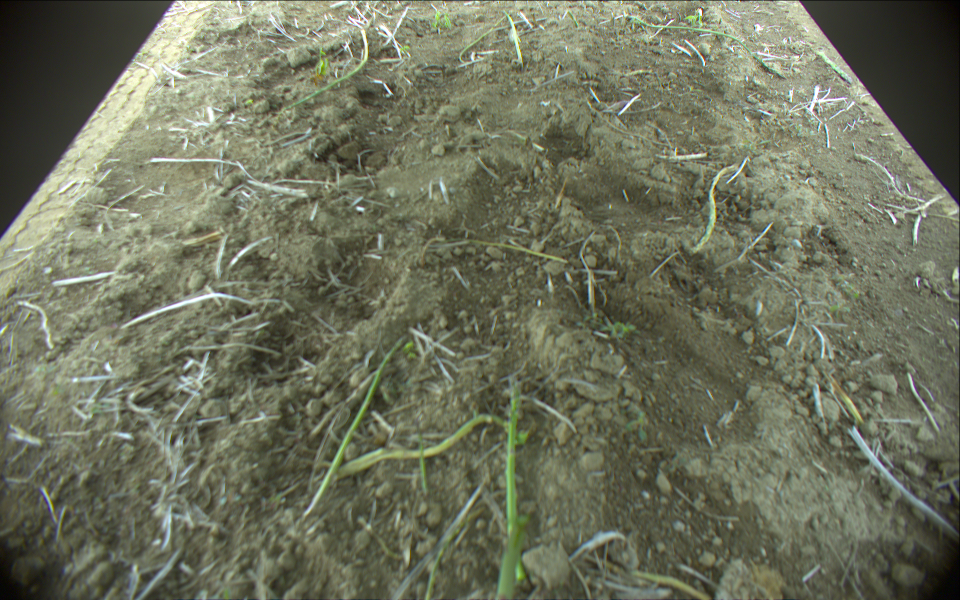aspa: (305, 335, 404, 516), (333, 413, 533, 489), (282, 27, 368, 113), (681, 164, 739, 259), (499, 384, 522, 600), (458, 18, 529, 64), (630, 14, 741, 40), (503, 10, 525, 66)
